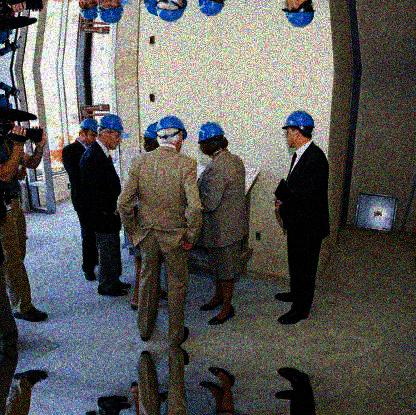helmet: (282, 111, 315, 148), (156, 116, 188, 151), (197, 121, 226, 155), (100, 115, 125, 151), (281, 1, 315, 27), (97, 1, 122, 23), (79, 119, 98, 146), (79, 1, 98, 19)
